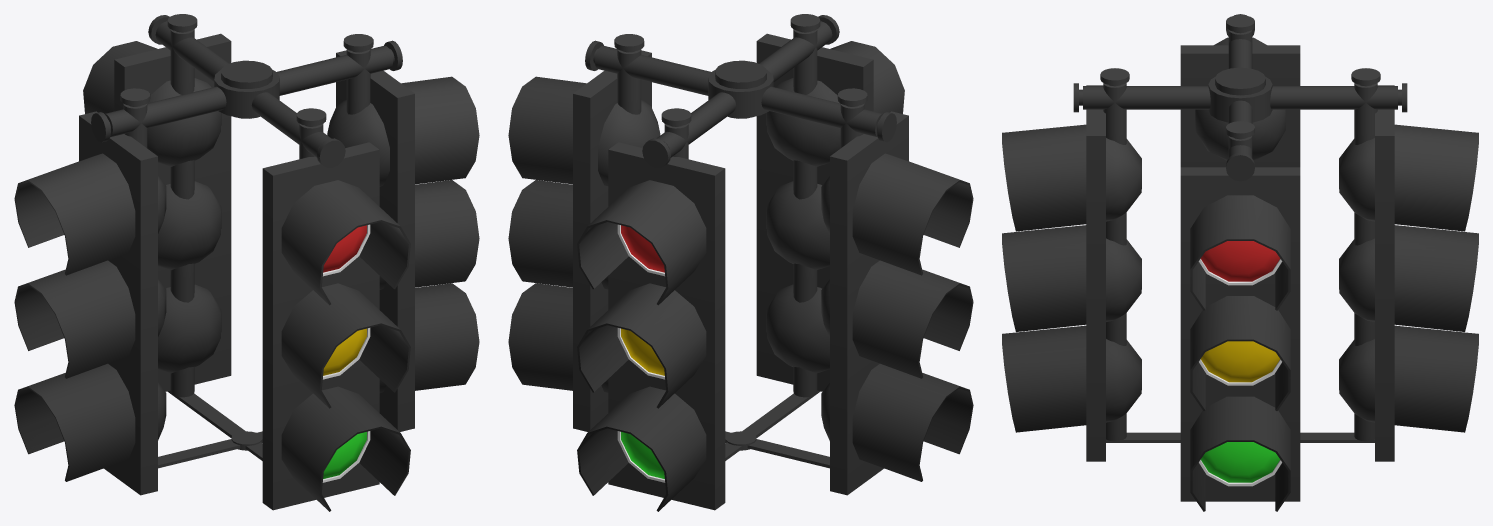
File: traffic_light_01_base_large_black.glb
3 views of the same model, side by side, from view 1: azimuth 30°, elevation 25°; view 2: azimuth 150°, elevation 25°; view 3: azimuth 270°, elevation 25° (orthographic). The views are drawn at different scales.
Parts seen in each view (by area): view 1: traffic_light_01_lights_large_black.001, traffic_light_01_lights_large_black, traffic_light_01_lights_large_black.002, traffic_light_01_lights_large_black.003, traffic_light_01_base_large_black; view 2: traffic_light_01_lights_large_black.003, traffic_light_01_lights_large_black, traffic_light_01_lights_large_black.002, traffic_light_01_lights_large_black.001, traffic_light_01_base_large_black; view 3: traffic_light_01_lights_large_black.001, traffic_light_01_lights_large_black.003, traffic_light_01_lights_large_black.002, traffic_light_01_base_large_black, traffic_light_01_lights_large_black.
Boxes of the visible parts, <box> form: traffic_light_01_lights_large_black.001: <box>262,108,410,511</box>; traffic_light_01_lights_large_black: <box>14,88,166,495</box>; traffic_light_01_lights_large_black.002: <box>327,34,479,431</box>; traffic_light_01_lights_large_black.003: <box>83,14,231,397</box>; traffic_light_01_base_large_black: <box>91,15,402,468</box>; traffic_light_01_lights_large_black.003: <box>577,108,725,511</box>; traffic_light_01_lights_large_black: <box>821,88,973,495</box>; traffic_light_01_lights_large_black.002: <box>508,34,660,431</box>; traffic_light_01_lights_large_black.001: <box>756,14,904,397</box>; traffic_light_01_base_large_black: <box>585,15,896,468</box>; traffic_light_01_lights_large_black.001: <box>1002,68,1141,461</box>; traffic_light_01_lights_large_black.003: <box>1339,68,1478,461</box>; traffic_light_01_lights_large_black.002: <box>1180,121,1300,511</box>; traffic_light_01_base_large_black: <box>1073,14,1407,442</box>; traffic_light_01_lights_large_black: <box>1180,15,1300,167</box>.
Size of the model in its own units: 1.41 by 1.2 by 1.41.
1 material, 1 textured.
